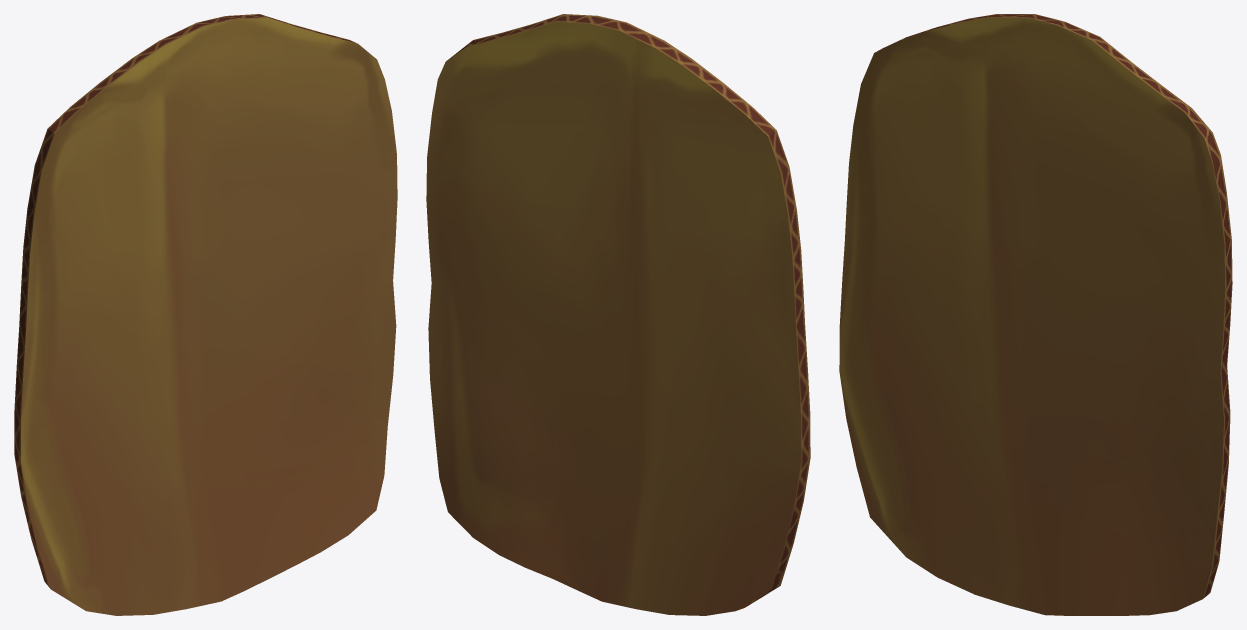
Rendered from cartón_2.fbx.
3 views of the same model, side by side, from view 1: azimuth 30°, elevation 25°; view 2: azimuth 150°, elevation 25°; view 3: azimuth 330°, elevation 25° (orthographic). The views are drawn at different scales.
Visible parts, largest first — view 1: Carton_2; view 2: Carton_2; view 3: Carton_2.
Part boxes in pixels (x1=…): Carton_2: x1=14, y1=14, x2=397, y2=615; Carton_2: x1=426, y1=14, x2=810, y2=615; Carton_2: x1=839, y1=14, x2=1232, y2=615.
Bounding box in the file's own units: 95.74 × 141 × 4.81.
Materials: 1 (1 with a texture image).
